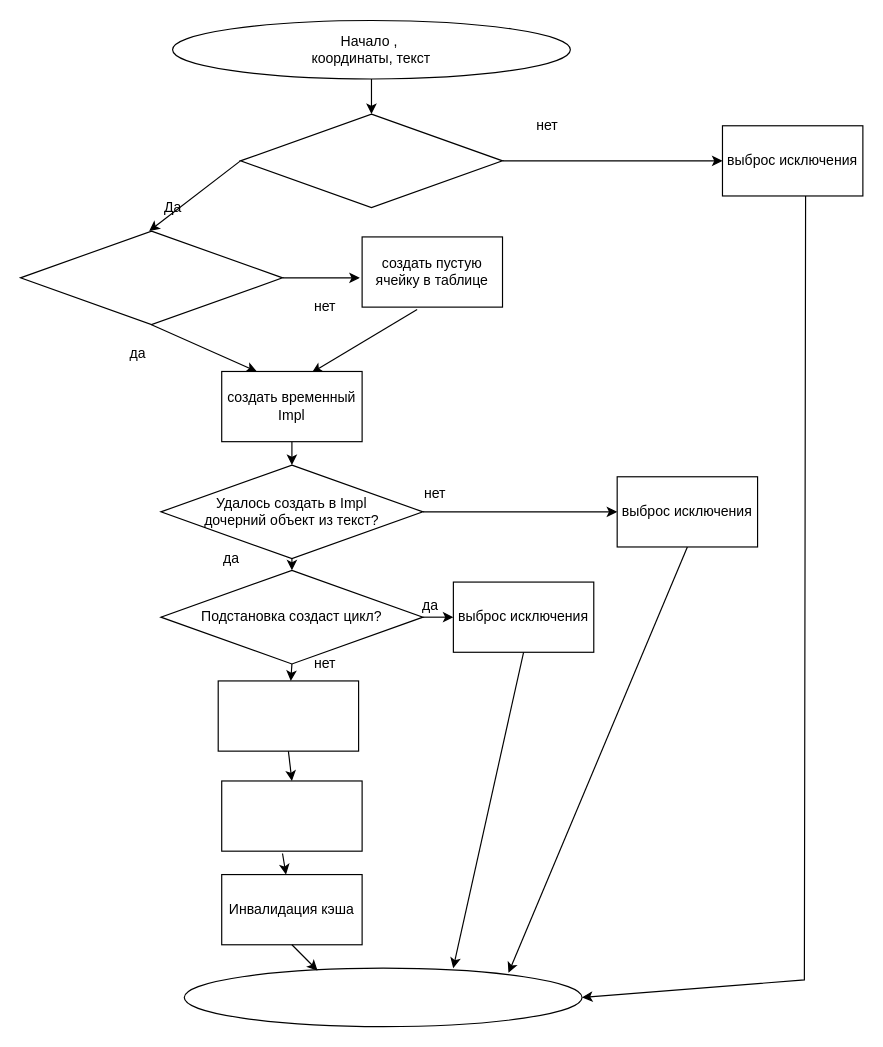
This 883x1047 diagram has some shape labels left out. Each missing label, with the centre of its shape:
валидные координаты: the point at 371,160
есть ячейка с координатами в таблице?: the point at 151,277
Конец: the point at 382,997
Обновить сет "влияющие ячейки": the point at 291,815
Присвоить ячейке в таблице Impl: the point at 288,715
